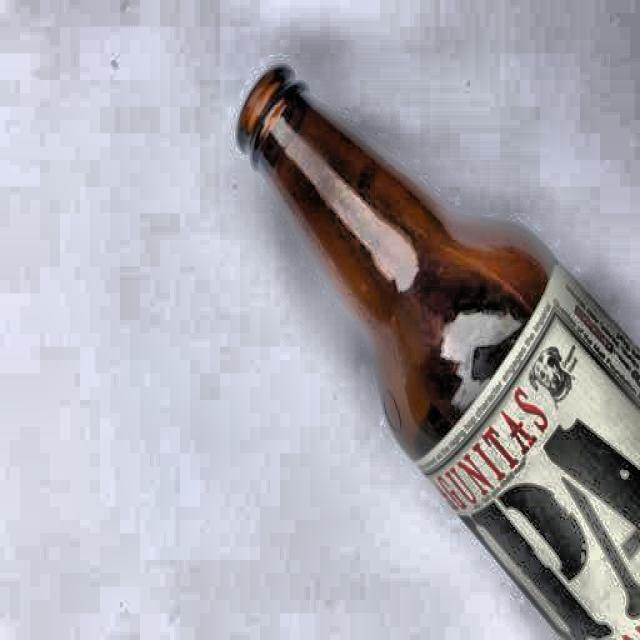glass: (231, 58, 640, 640)
